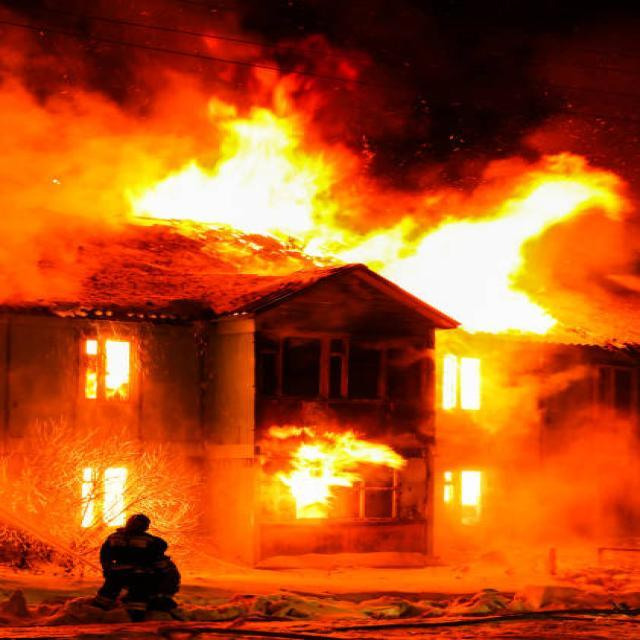Fire: (354, 160, 634, 330), (132, 117, 328, 240), (254, 409, 376, 506), (89, 338, 146, 406)
Smoke: (0, 0, 312, 291), (438, 334, 640, 576), (547, 39, 640, 252)
